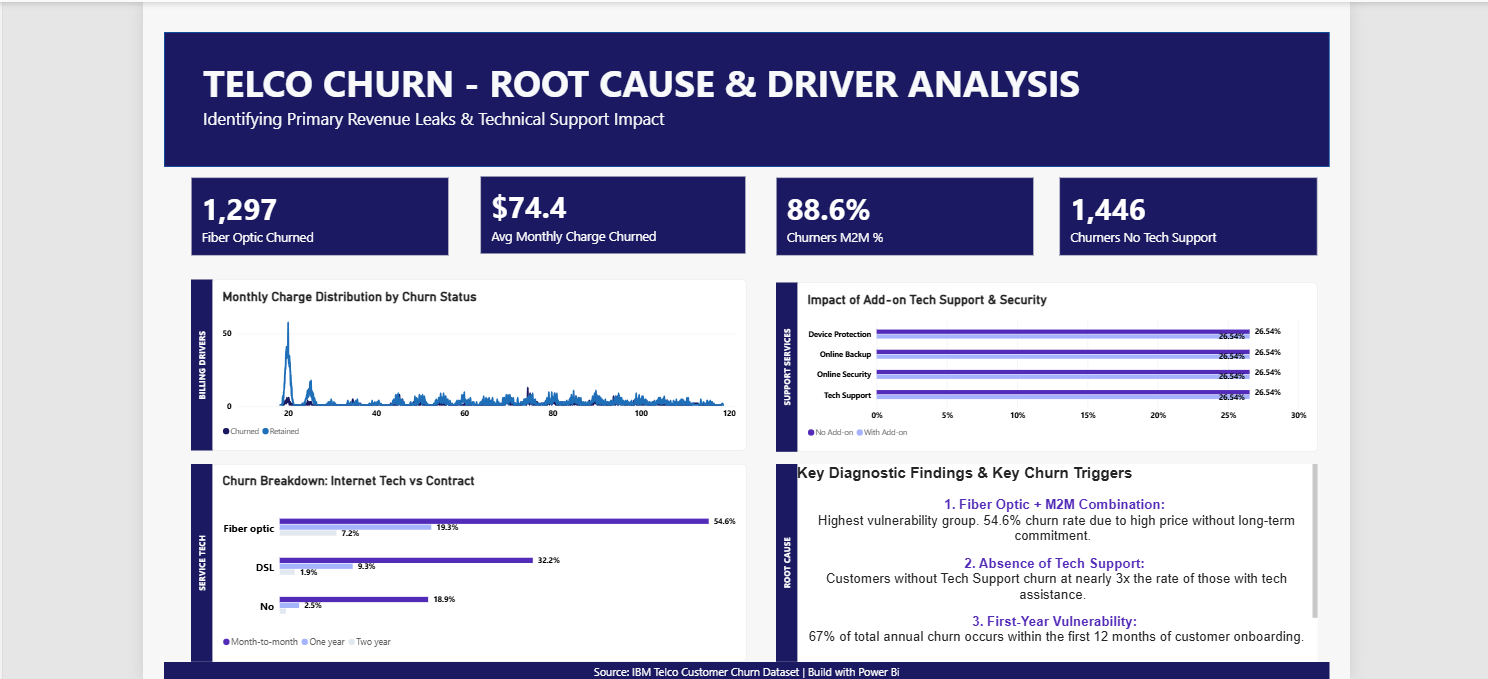

This screenshot's page, from the dashboard's own definition file:
{"tool":"powerbi","page":{"name":"ROOT CAUSE & DRIVER ANALYSIS","canvas":[1920,1080],"ordinal":1},"visuals":[{"type":"shape","box":[33.4,47.7,1853.9,214.7],"z":0},{"type":"textbox","box":[95.4,88.3,1431.5,131.2],"z":1000},{"type":"cardVisual","fields":{"Data":["Service_Risk_Summary.Fiber Optic Churned"]},"box":[76.3,279.2,410.4,124.1],"z":2000},{"type":"cardVisual","fields":{"Data":["Service_Risk_Summary.Avg Monthly Charge Churned"]},"box":[535.8,277.8,422.4,124.7],"z":3000},{"type":"cardVisual","fields":{"Data":["Service_Risk_Summary.Churners M2M %"]},"box":[1006.9,279.2,410.4,124.1],"z":4000},{"type":"cardVisual","fields":{"Data":["Service_Risk_Summary.Churners No Tech Support"]},"box":[1457.8,279.2,410.4,124.1],"z":5000},{"type":"lineChart","title":"Monthly Charge Distribution by Churn Status","fields":{"Category":["telco_churn.Monthly_Charges"],"Series":["telco_churn.Churn Status"],"Y":["telco_churn.Customer Count"]},"box":[110.6,442.2,850.4,272.1],"z":6000},{"type":"clusteredBarChart","title":"Impact of Add-on Tech Support & Security","fields":{"Category":["Service_Risk_Summary 2.Support_Service"],"Series":["telco_churn.Add-on Status"],"Y":["Service_Risk_Summary 2.Service Churn Rate"]},"box":[1040.3,445,827.7,269.3],"z":7000},{"type":"clusteredBarChart","title":"Churn Breakdown: Internet Tech vs Contract","fields":{"Category":["telco_churn.Internet_Service"],"Series":["telco_churn.Contract"],"Y":["telco_churn.Overall Churn Rate"]},"box":[110.6,734.2,850.4,314.6],"z":8000},{"type":"shape","box":[1040.3,734.2,827.7,314.6],"z":8001},{"type":"textbox","box":[1040.3,734.2,827.7,314.6],"z":8002},{"type":"shape","box":[76.5,442.2,34,272.1],"z":8003},{"type":"shape","box":[76.5,734.2,34,314.6],"z":8004},{"type":"shape","box":[1006.3,445,34,269.3],"z":8005},{"type":"shape","box":[1006.3,734.2,34,314.6],"z":8006},{"type":"shape","box":[34,1048.8,1853.9,31.2],"z":8007}]}

Visuals, with their boxes on the page's 1920x1080 design canvas (x1, y1, x2, y2). These are canvas units, not pixel positions in the 1488x679 screenshot, which may show the page scaled, cropped or inside an application window:
shape: bbox=(33, 48, 1887, 262)
textbox: bbox=(95, 88, 1527, 220)
cardVisual - Service_Risk_Summary.Fiber Optic Churned: bbox=(76, 279, 487, 403)
cardVisual - Service_Risk_Summary.Avg Monthly Charge Churned: bbox=(536, 278, 958, 402)
cardVisual - Service_Risk_Summary.Churners M2M %: bbox=(1007, 279, 1417, 403)
cardVisual - Service_Risk_Summary.Churners No Tech Support: bbox=(1458, 279, 1868, 403)
"Monthly Charge Distribution by Churn Status" lineChart: bbox=(111, 442, 961, 714)
"Impact of Add-on Tech Support & Security" clusteredBarChart: bbox=(1040, 445, 1868, 714)
"Churn Breakdown: Internet Tech vs Contract" clusteredBarChart: bbox=(111, 734, 961, 1049)
shape: bbox=(1040, 734, 1868, 1049)
textbox: bbox=(1040, 734, 1868, 1049)
shape: bbox=(76, 442, 110, 714)
shape: bbox=(76, 734, 110, 1049)
shape: bbox=(1006, 445, 1040, 714)
shape: bbox=(1006, 734, 1040, 1049)
shape: bbox=(34, 1049, 1888, 1080)
